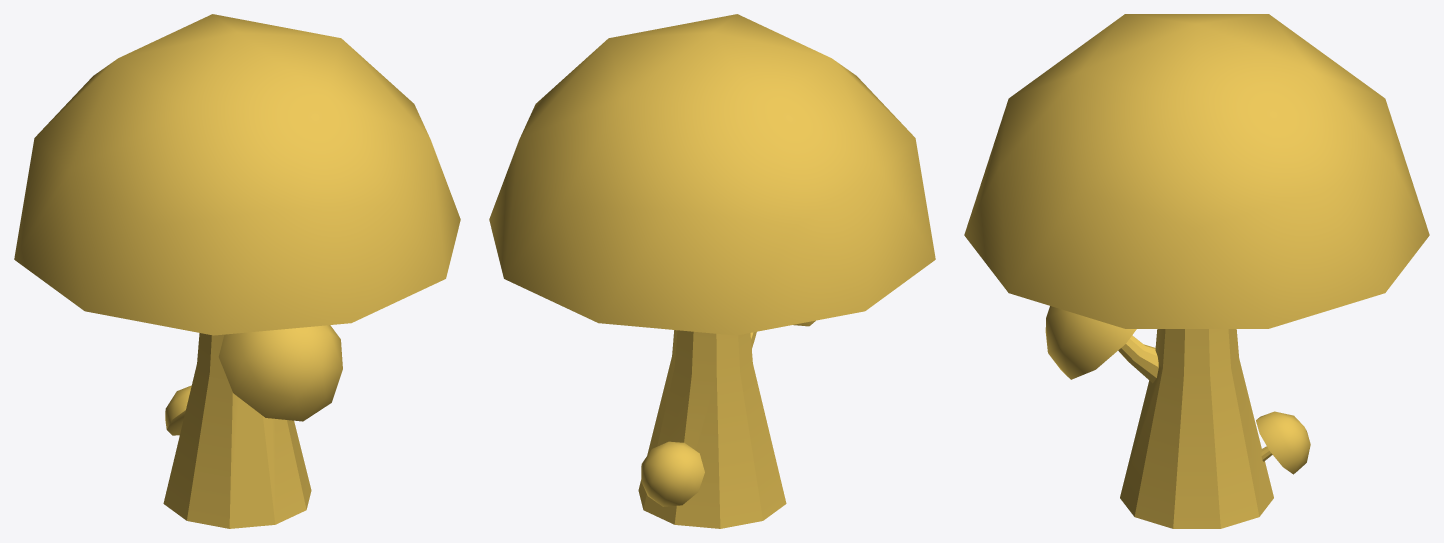
Rendered from Mushrooms.fbx.
3 renders of one model, left to right at view 1: azimuth 30°, elevation 25°; view 2: azimuth 150°, elevation 25°; view 3: azimuth 270°, elevation 25°, orthographic.
Visible parts, largest first — view 1: Mushroom; view 2: Mushroom; view 3: Mushroom.
Boxes of the visible parts, box(x1,y1,x2,y2) form: Mushroom: box(14, 14, 460, 528); Mushroom: box(489, 14, 935, 528); Mushroom: box(964, 14, 1429, 528).
Bounding box in the file's own units: 65.17 × 76.91 × 68.52.
